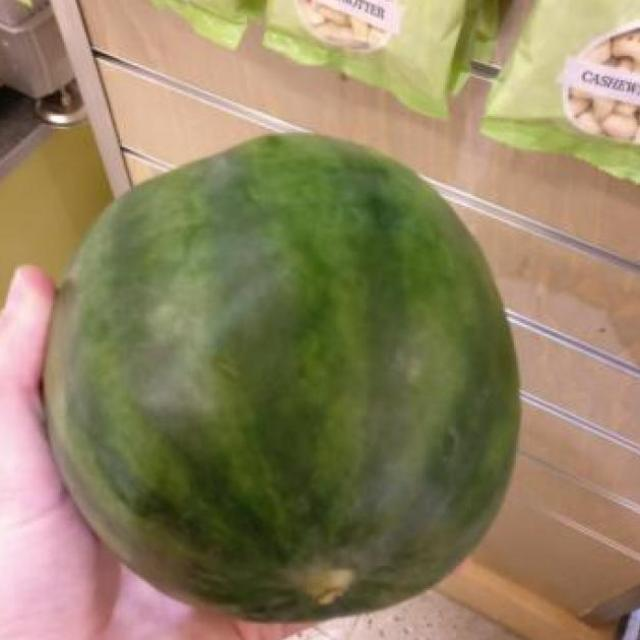Watermelon: (47, 133, 520, 623)
